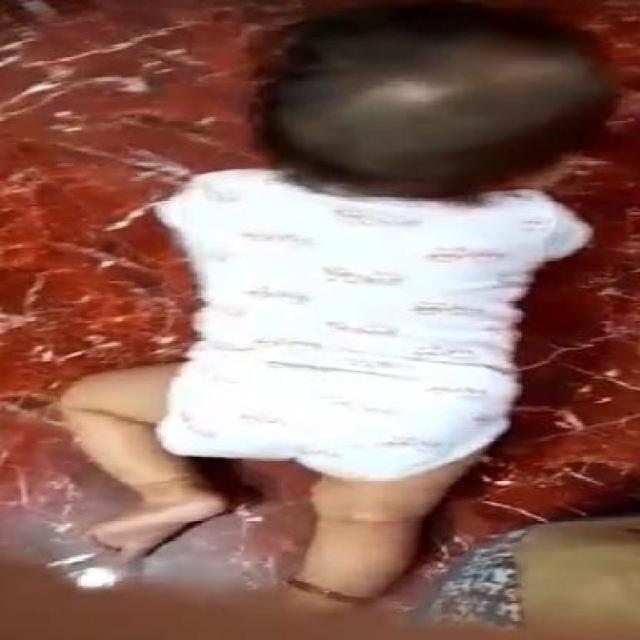baby: (62, 0, 608, 600)
